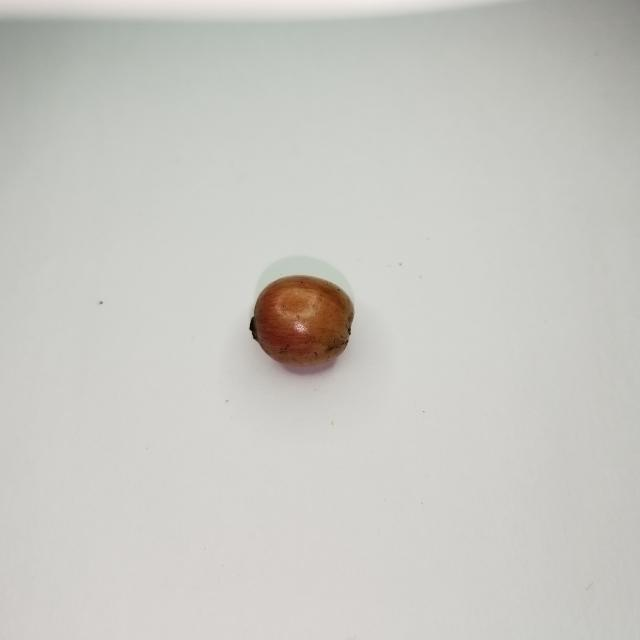Sano: (251, 275, 353, 366)
